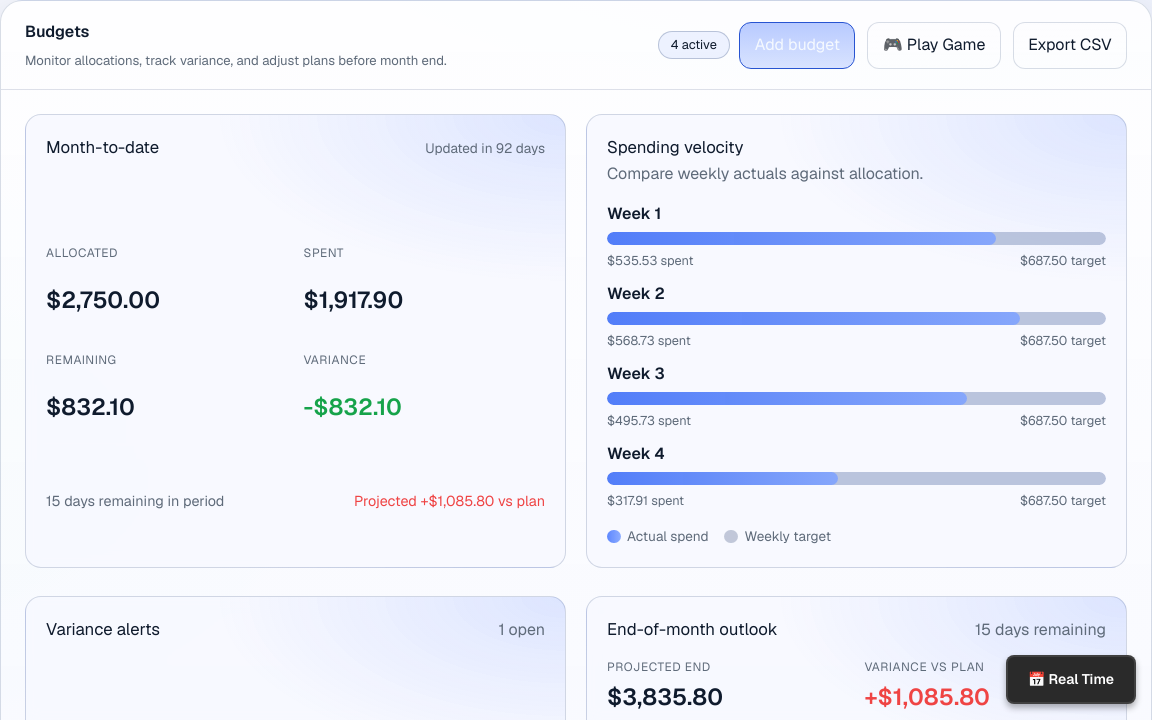
Test: BudgetsSection › shows an error message when export fails
Click the button with aria-label "Download budgets as CSV" at (1070, 45), box [1013,22,1127,69]
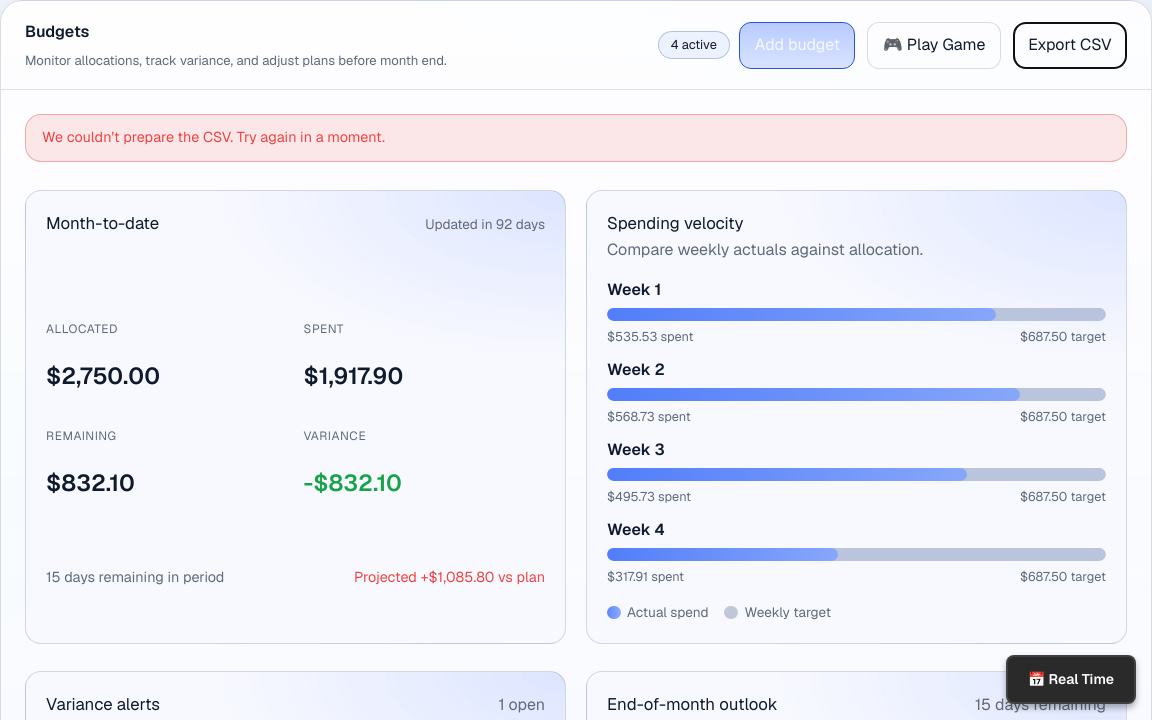
Expected: the text "We couldn't prepare the CSV. Try again in a moment." is shown, [25,114,1127,162]
